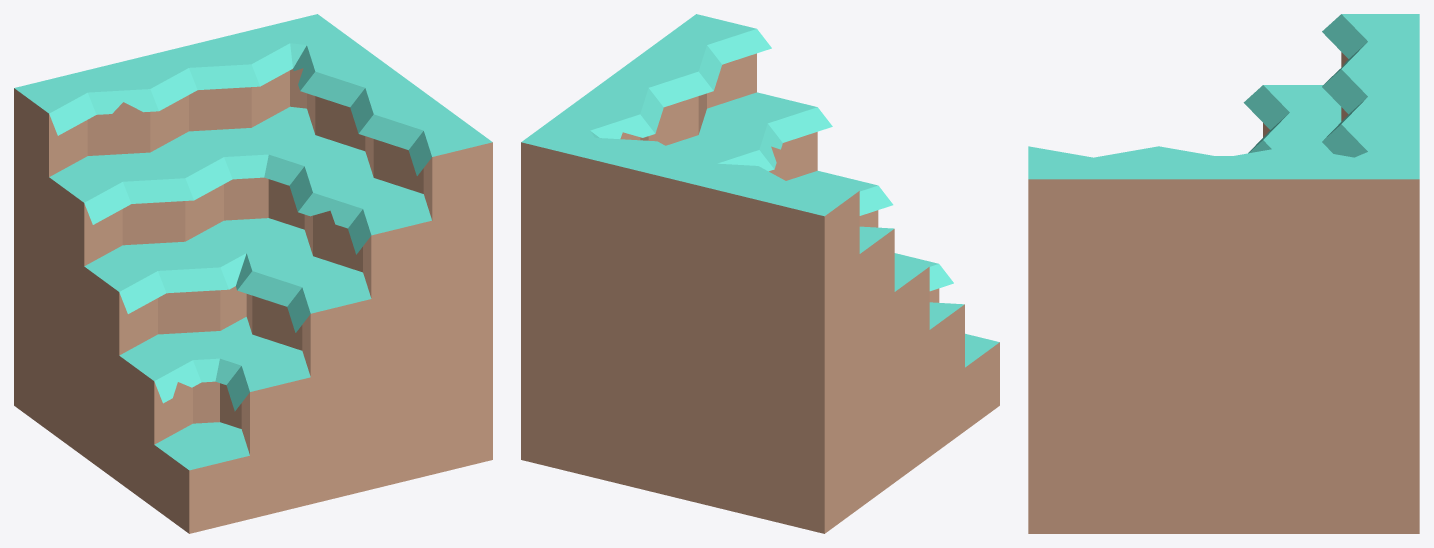
Rendered from cliff_stepsCornerInner_rock.gltf.
3 renders of one model, left to right at view 1: azimuth 30°, elevation 25°; view 2: azimuth 150°, elevation 25°; view 3: azimuth 270°, elevation 25°, orthographic. The views are drawn at different scales.
Parts seen in each view (by area): view 1: cliff_stepsCornerInner_rock; view 2: cliff_stepsCornerInner_rock; view 3: cliff_stepsCornerInner_rock.
Part boxes in pixels (x1,y1,x2,y2): cliff_stepsCornerInner_rock: [14, 14, 492, 533]; cliff_stepsCornerInner_rock: [521, 14, 999, 533]; cliff_stepsCornerInner_rock: [1028, 14, 1419, 533].
Bounding box in the file's own units: 1 × 1 × 1.
